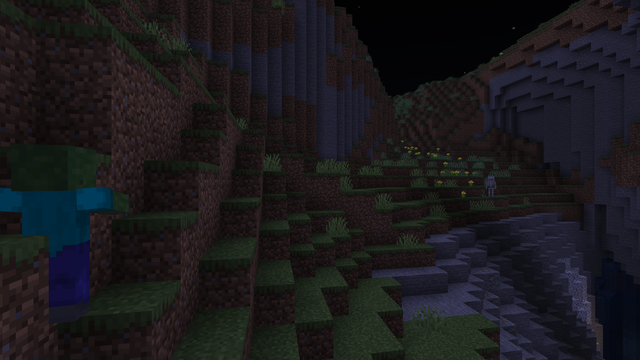squelettes: (485, 176, 495, 196)
zombies: (0, 148, 103, 333)
